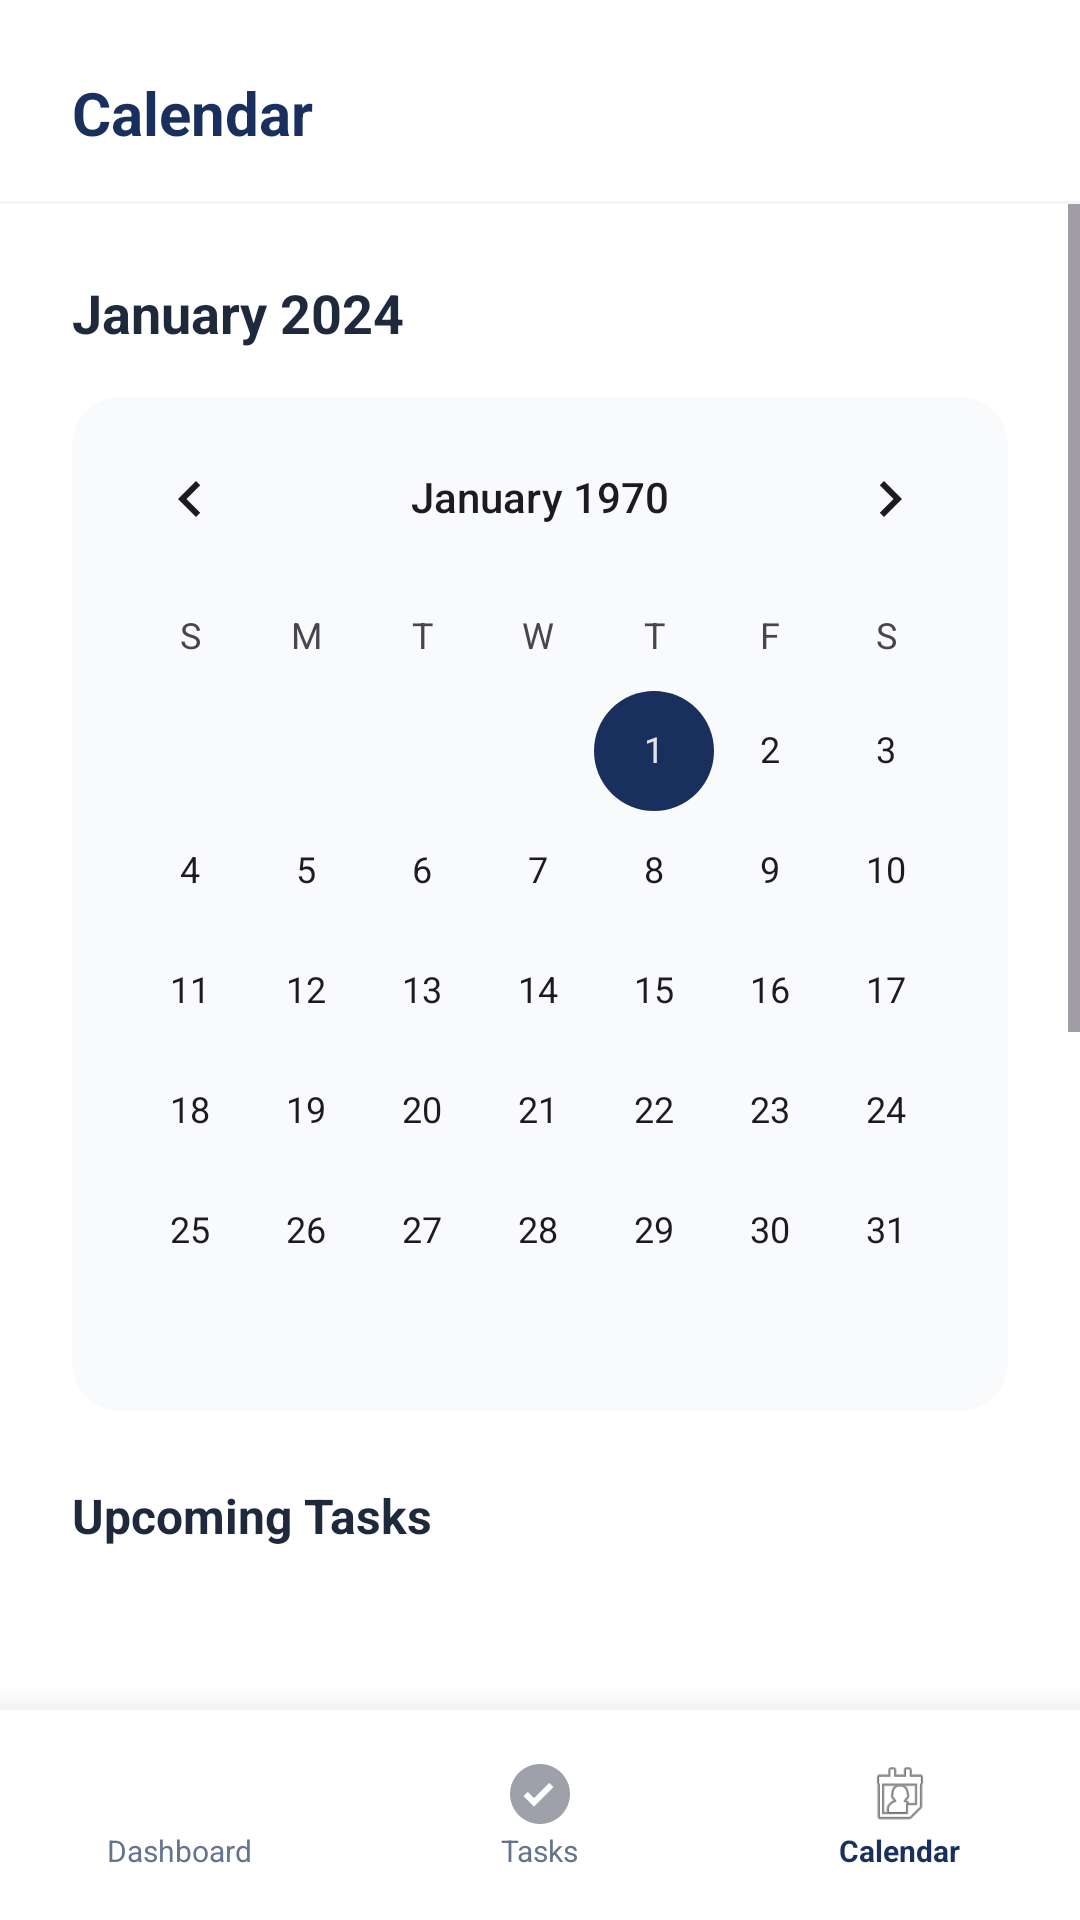

Where to tap for icons on this 1080w x 1920h app screen, as (x=x, y=y):
check circle: (x=540, y=1794)
